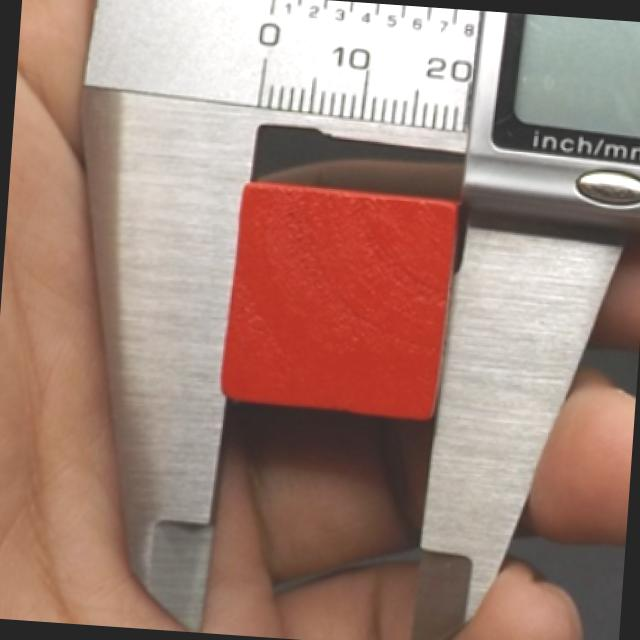red cube: (218, 149, 469, 424)
